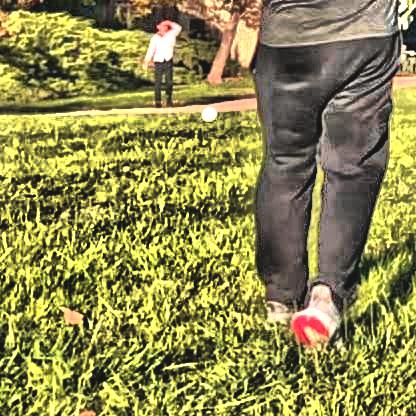golfball: (198, 104, 215, 119)
